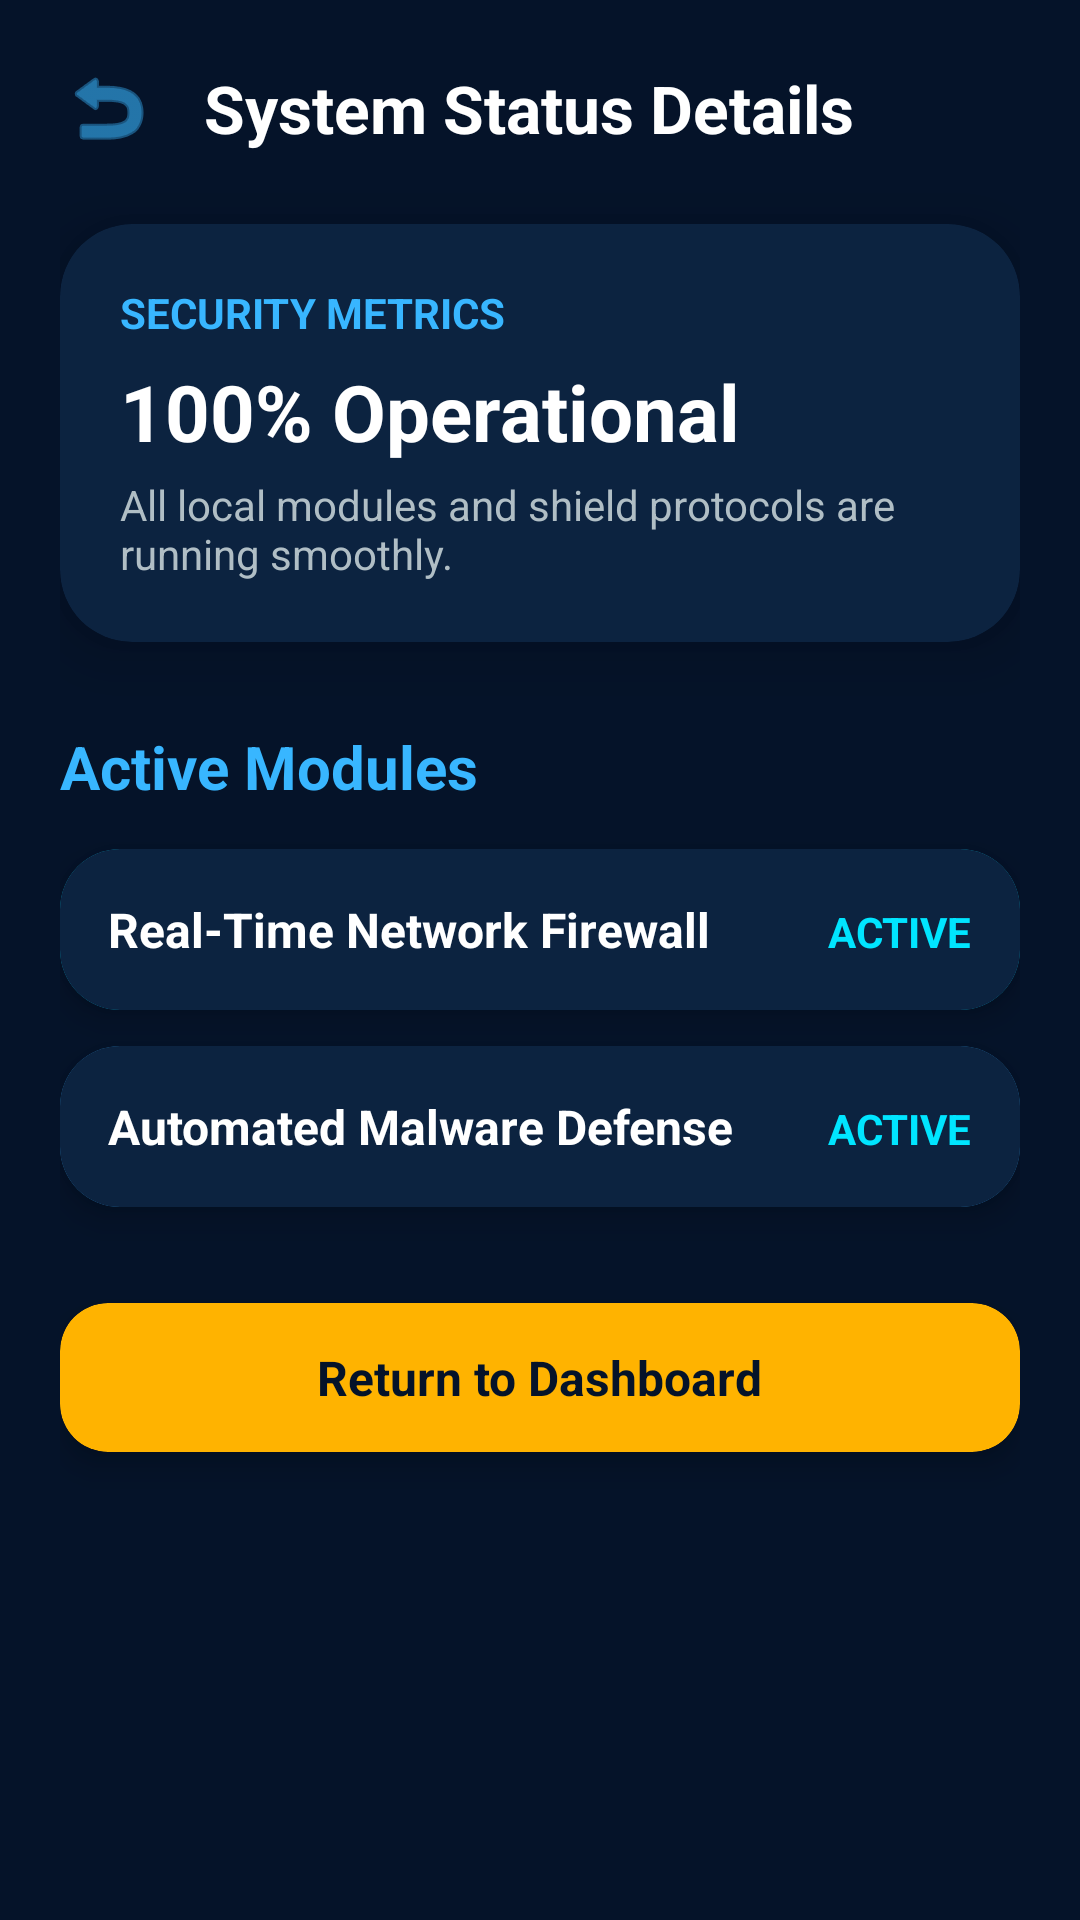

Where to tap for icons on this 1080 × 1920 app screen, as point (x, y):
Back Button: point (109, 108)
